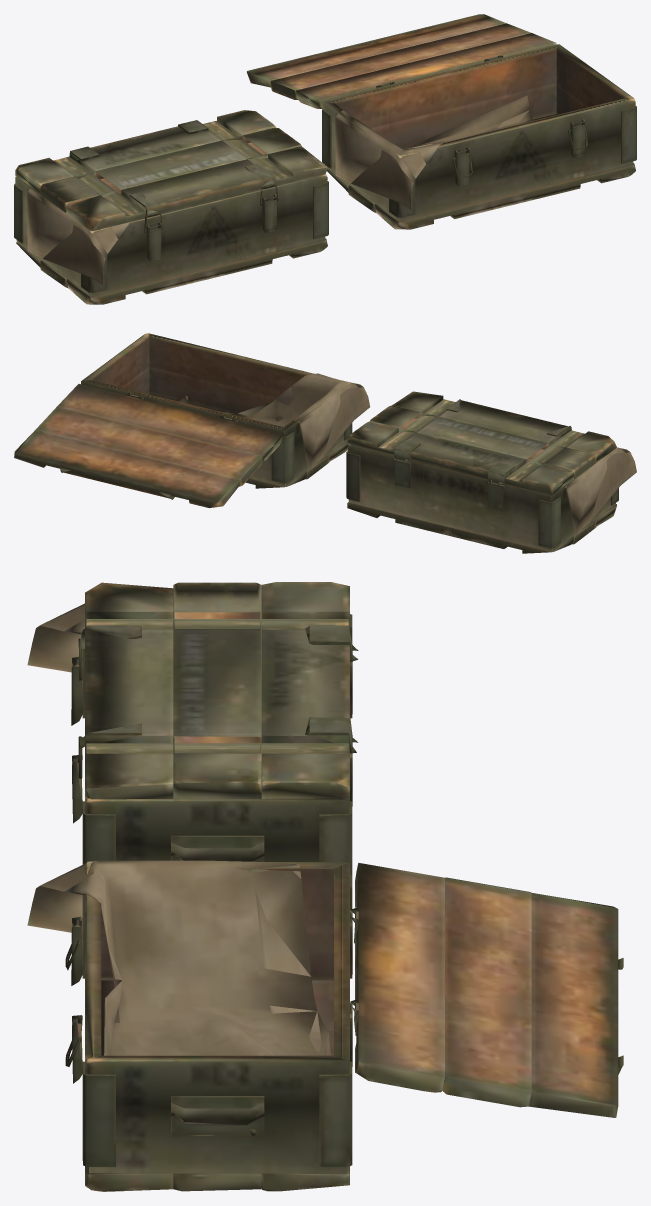
Rendered from old_military_crate.glb.
3 renders of one model, top to bottom at view 1: azimuth 30°, elevation 25°; view 2: azimuth 150°, elevation 25°; view 3: azimuth 270°, elevation 25°, orthographic. The views are drawn at different scales.
Parts seen in each view (by area): view 1: old_military_crate_b, old_military_crate_lid_a, old_military_crate_a, old_military_crate_lid_b, old_military_crate_cloth_b, old_military_crate_cloth_a, old_military_crate_latch_a, old_military_crate_latch_b; view 2: old_military_crate_lid_b, old_military_crate_lid_a, old_military_crate_a, old_military_crate_b, old_military_crate_cloth_b, old_military_crate_cloth_a; view 3: old_military_crate_lid_a, old_military_crate_lid_b, old_military_crate_b, old_military_crate_cloth_b, old_military_crate_a, old_military_crate_cloth_a, old_military_crate_latch_b, old_military_crate_latch_a.
Boxes of the visible parts, box(x1,y1,x2,y2) form: old_military_crate_b: box(322, 44, 636, 229); old_military_crate_lid_a: box(15, 110, 327, 230); old_military_crate_a: box(14, 173, 328, 304); old_military_crate_lid_b: box(247, 14, 556, 108); old_military_crate_cloth_b: box(335, 95, 534, 209); old_military_crate_cloth_a: box(27, 188, 129, 284); old_military_crate_latch_a: box(146, 194, 276, 261); old_military_crate_latch_b: box(454, 119, 585, 186); old_military_crate_lid_b: box(14, 384, 283, 508); old_military_crate_lid_a: box(347, 391, 616, 494); old_military_crate_a: box(346, 445, 618, 553); old_military_crate_b: box(81, 333, 352, 488); old_military_crate_cloth_b: box(174, 373, 369, 469); old_military_crate_cloth_a: box(565, 447, 636, 534); old_military_crate_lid_a: box(80, 582, 358, 799); old_military_crate_lid_b: box(350, 862, 623, 1117); old_military_crate_b: box(82, 861, 352, 1191); old_military_crate_cloth_b: box(27, 860, 330, 1055); old_military_crate_a: box(82, 614, 352, 874); old_military_crate_cloth_a: box(27, 603, 84, 672); old_military_crate_latch_b: box(71, 916, 82, 1083); old_military_crate_latch_a: box(71, 656, 82, 823).
Size of the model in its own units: 1.81 by 0.2734 by 0.9677.
1 material, 1 textured.
